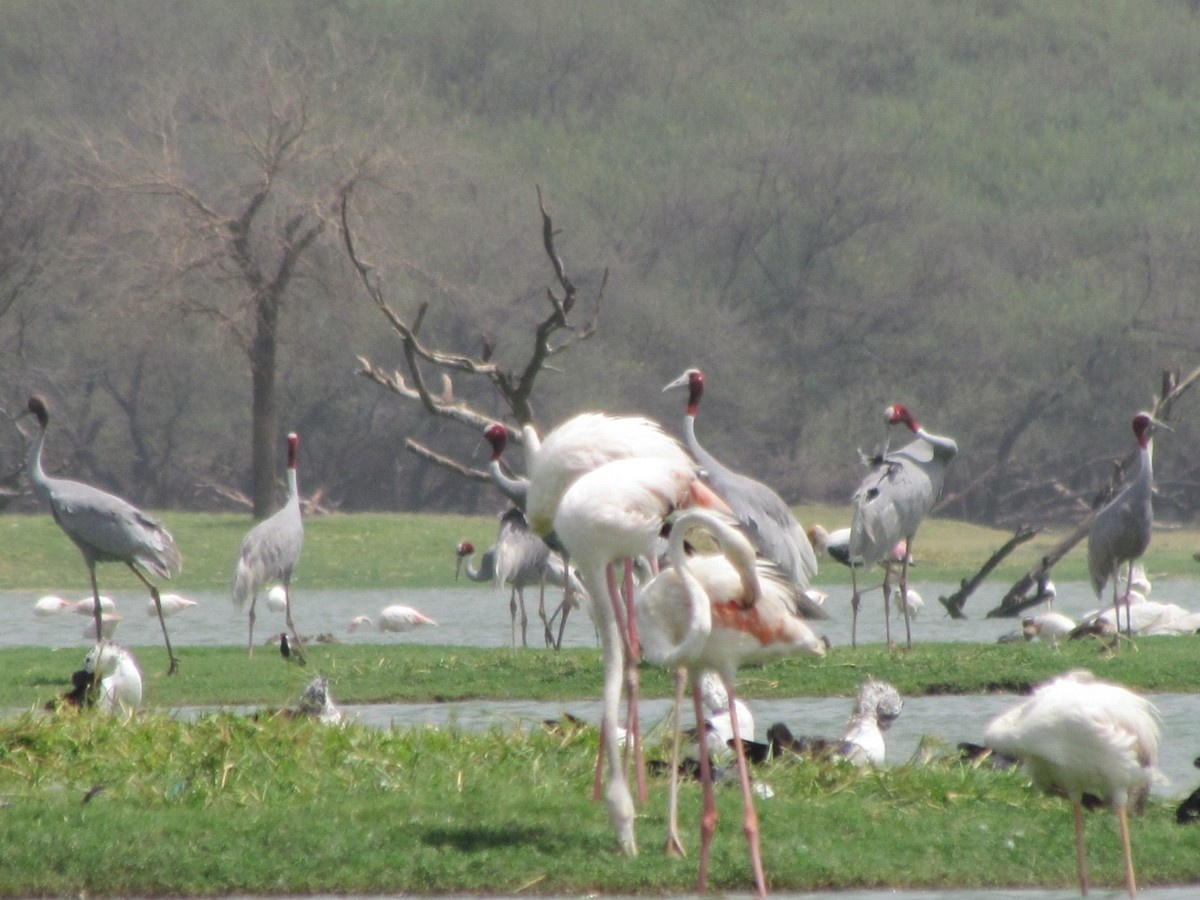crane: (8, 396, 202, 676), (828, 394, 965, 658), (230, 418, 329, 672), (1089, 409, 1183, 651), (663, 361, 752, 478)
